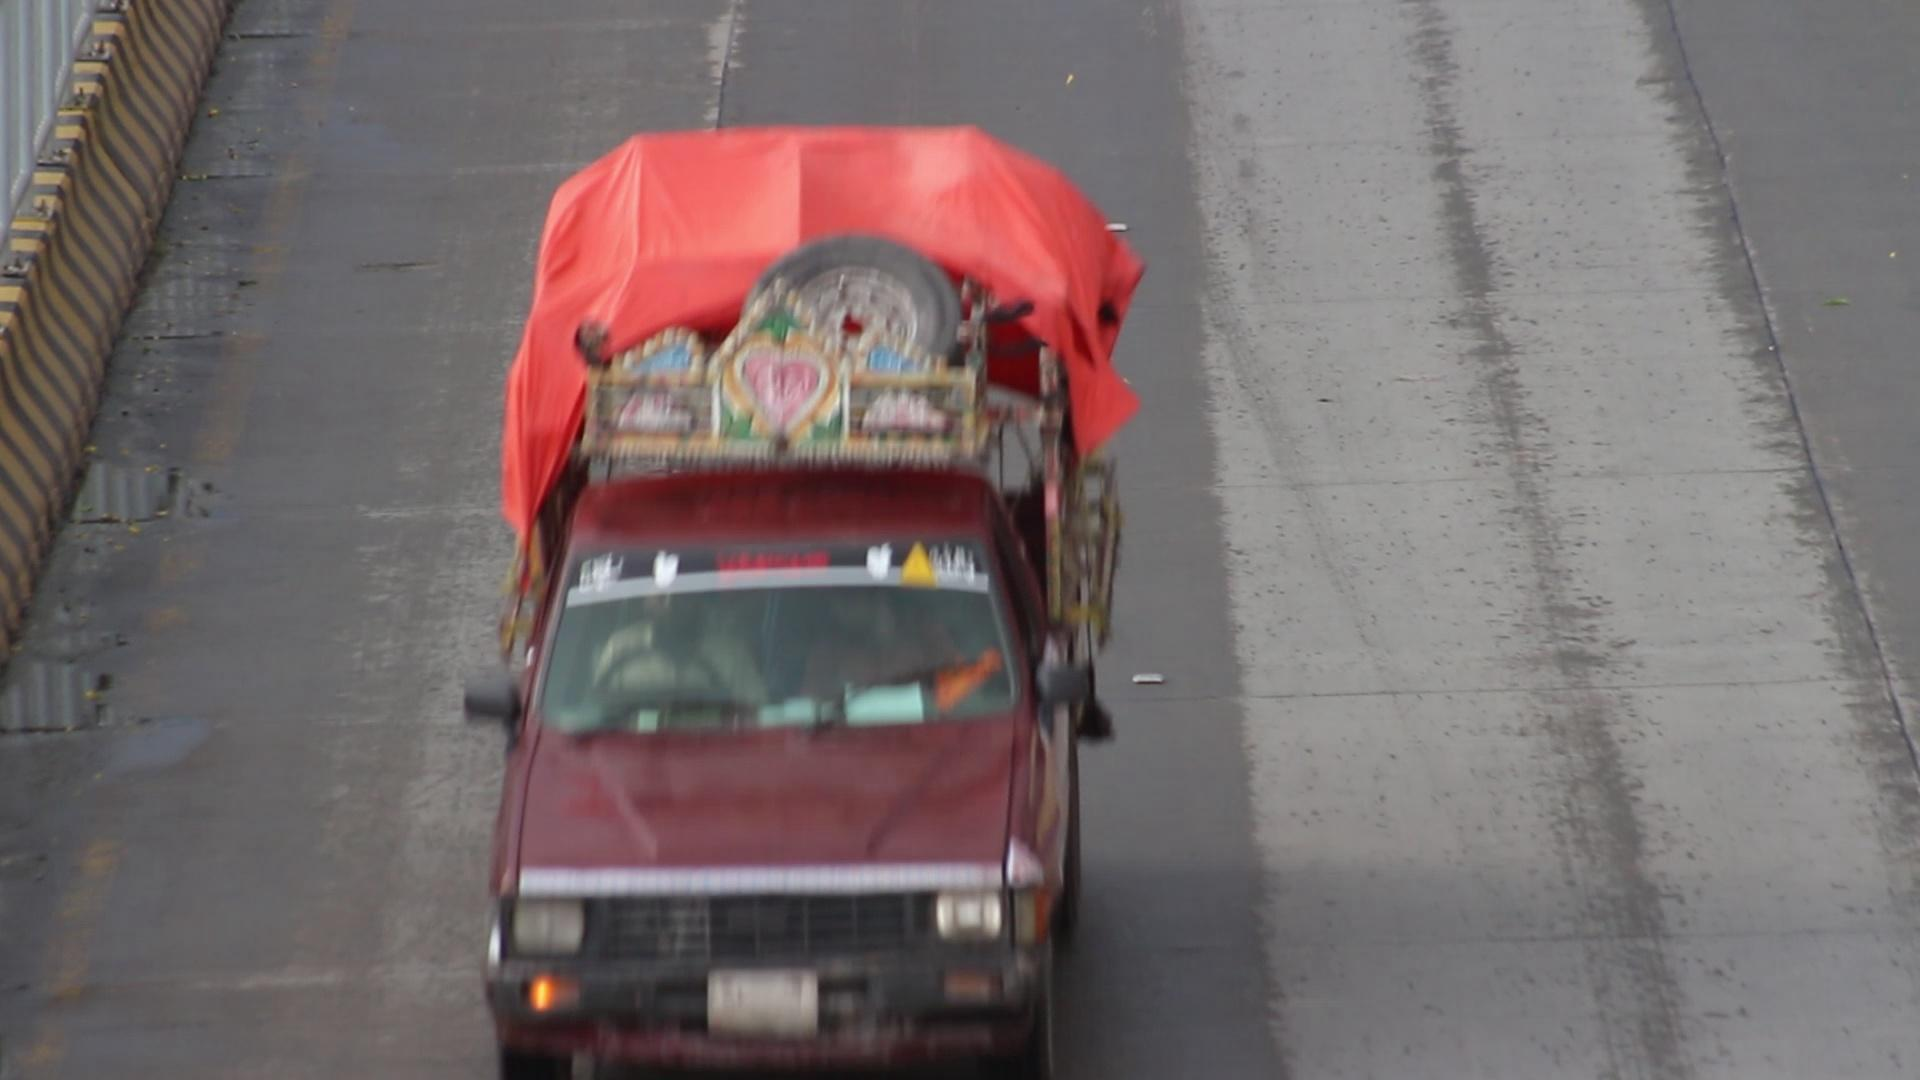windshield: (527, 510, 1034, 724)
